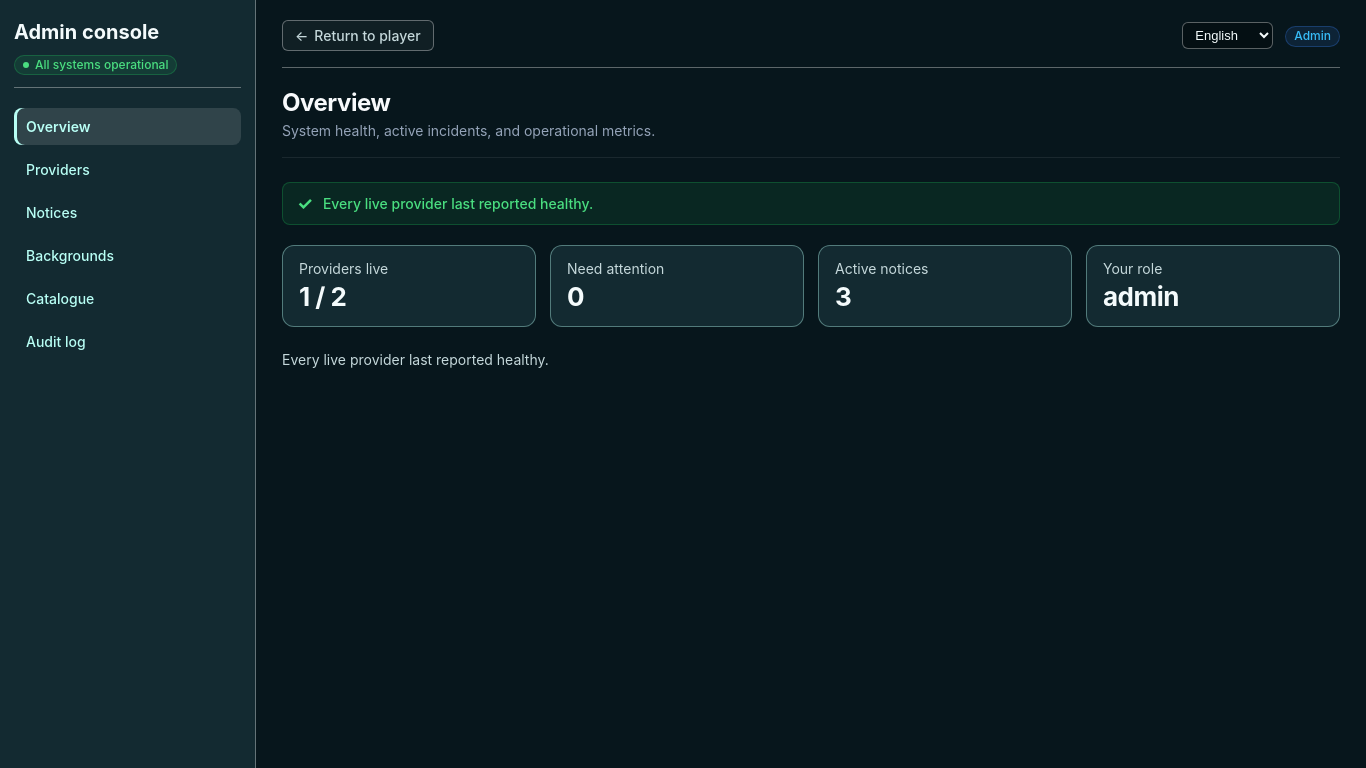
it: AdminShell › lets admin view the audit log without an export control
Click the link "Audit log" at {"x": 56, "y": 342}, box [26,333,86,350]
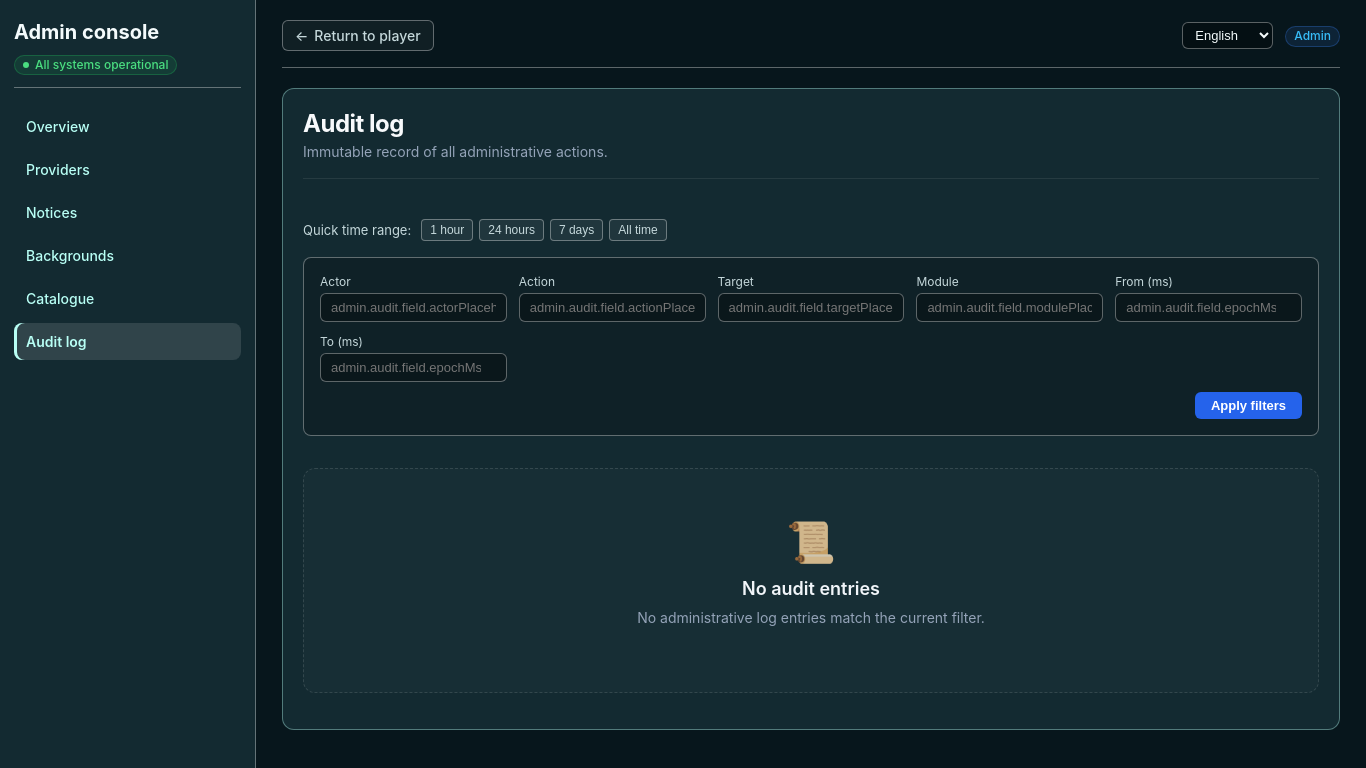
Now the element that starts with "Audit log" is shown
